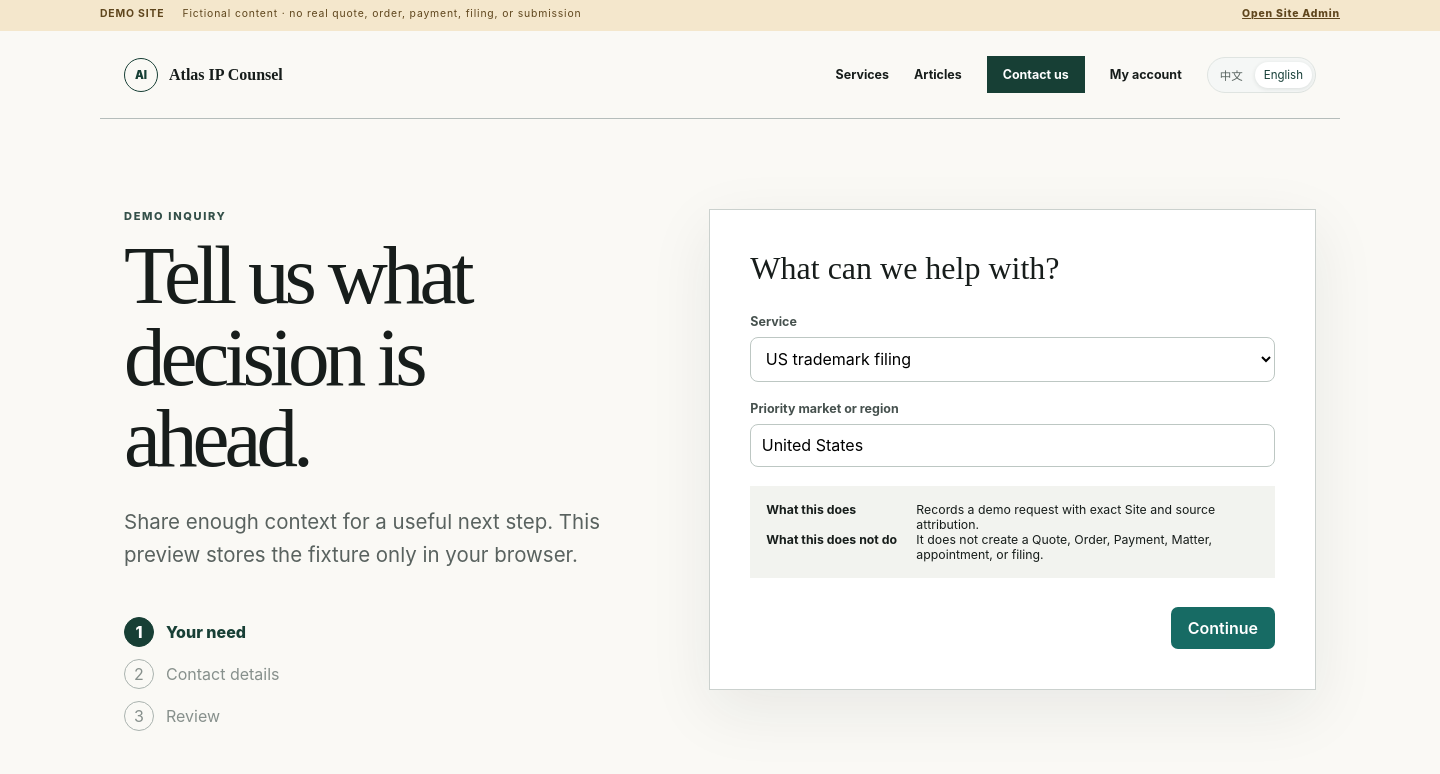
Test case: Site V1 interactive preview › rejects an inquiry without explicit consent and prevents duplicates
Click the button "Continue". click: (1223, 628)
box: [1171,607,1275,649]
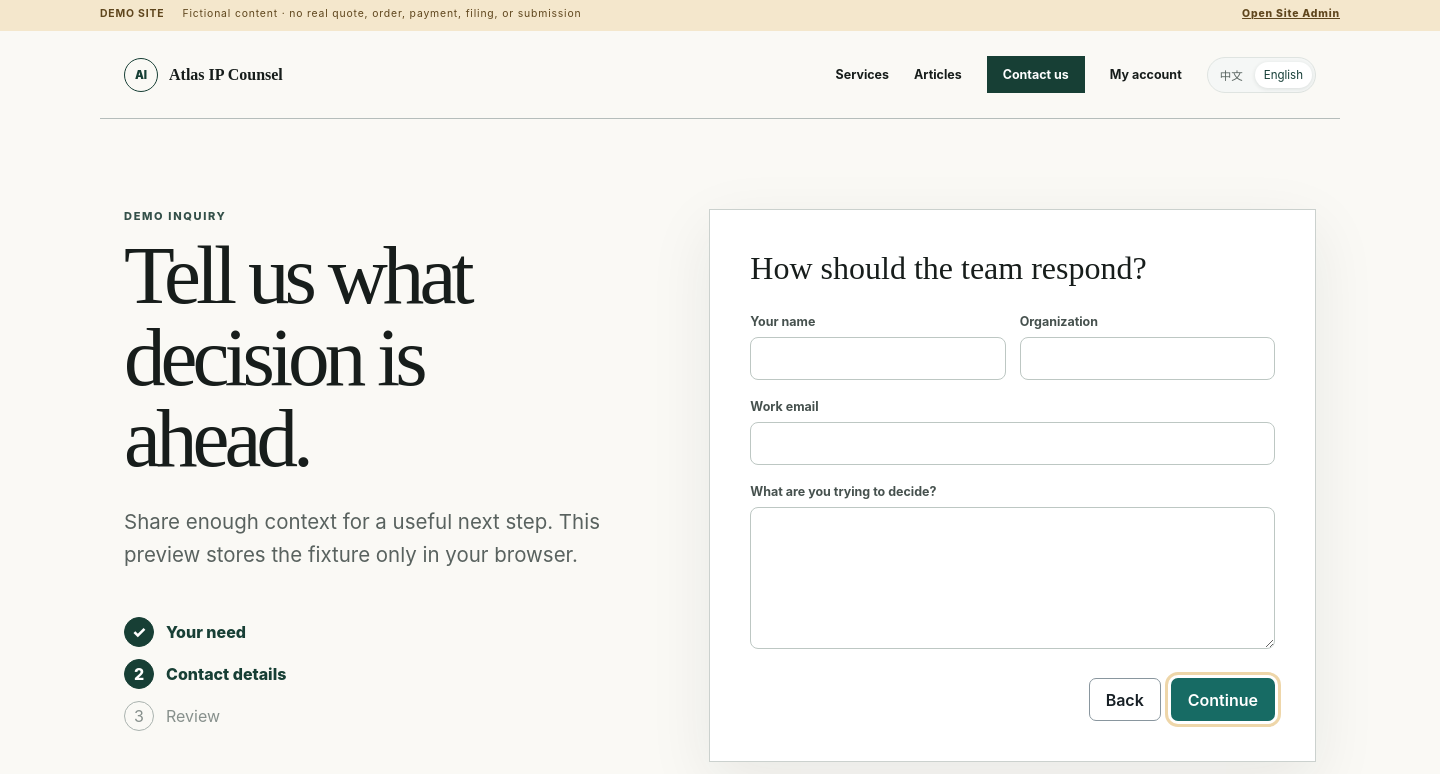
Type "Maya Chen" into the field labelled "Your name". click: (878, 358)
box: [750,337,1006,380]
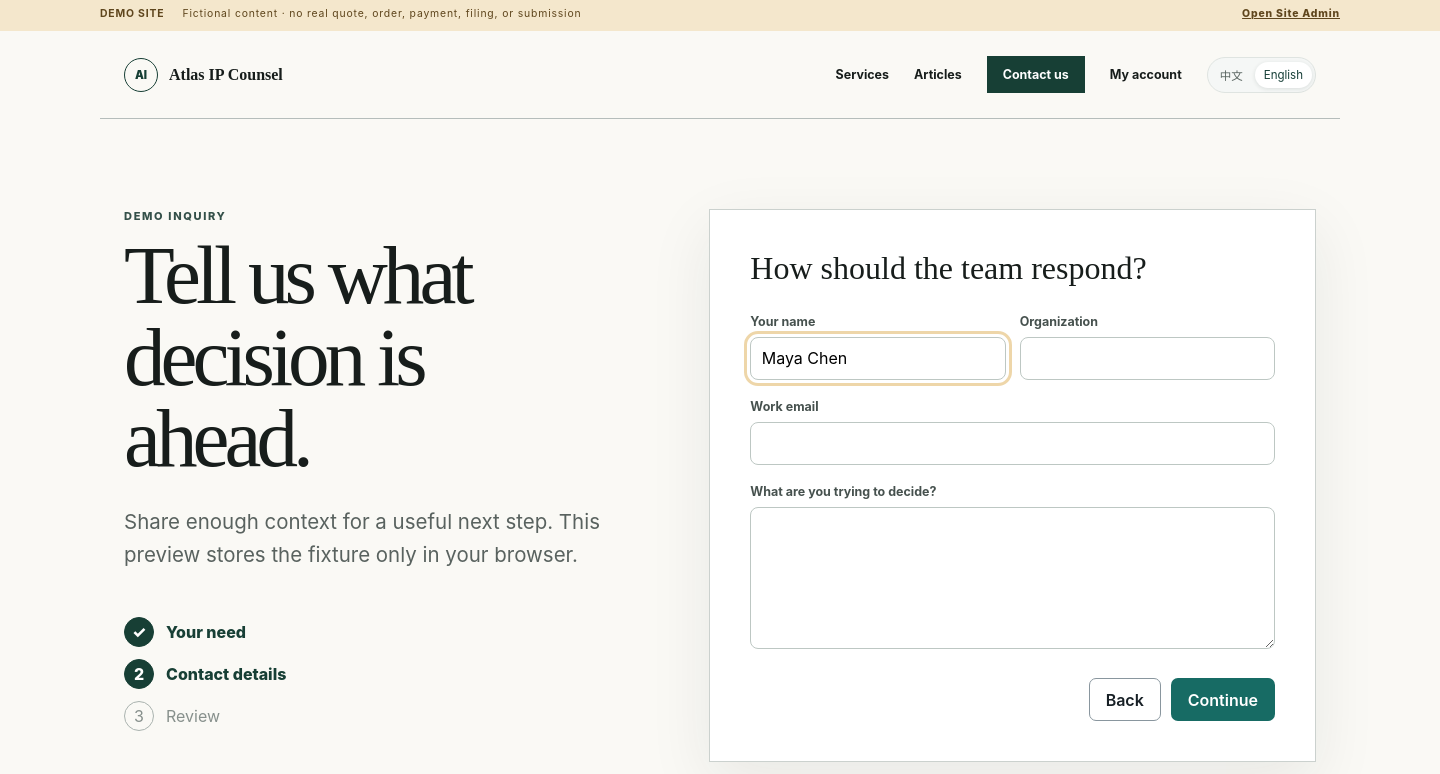
Type "maya@example.com" into the field labelled "Work email". click: (1013, 443)
box: [750,422,1275,465]
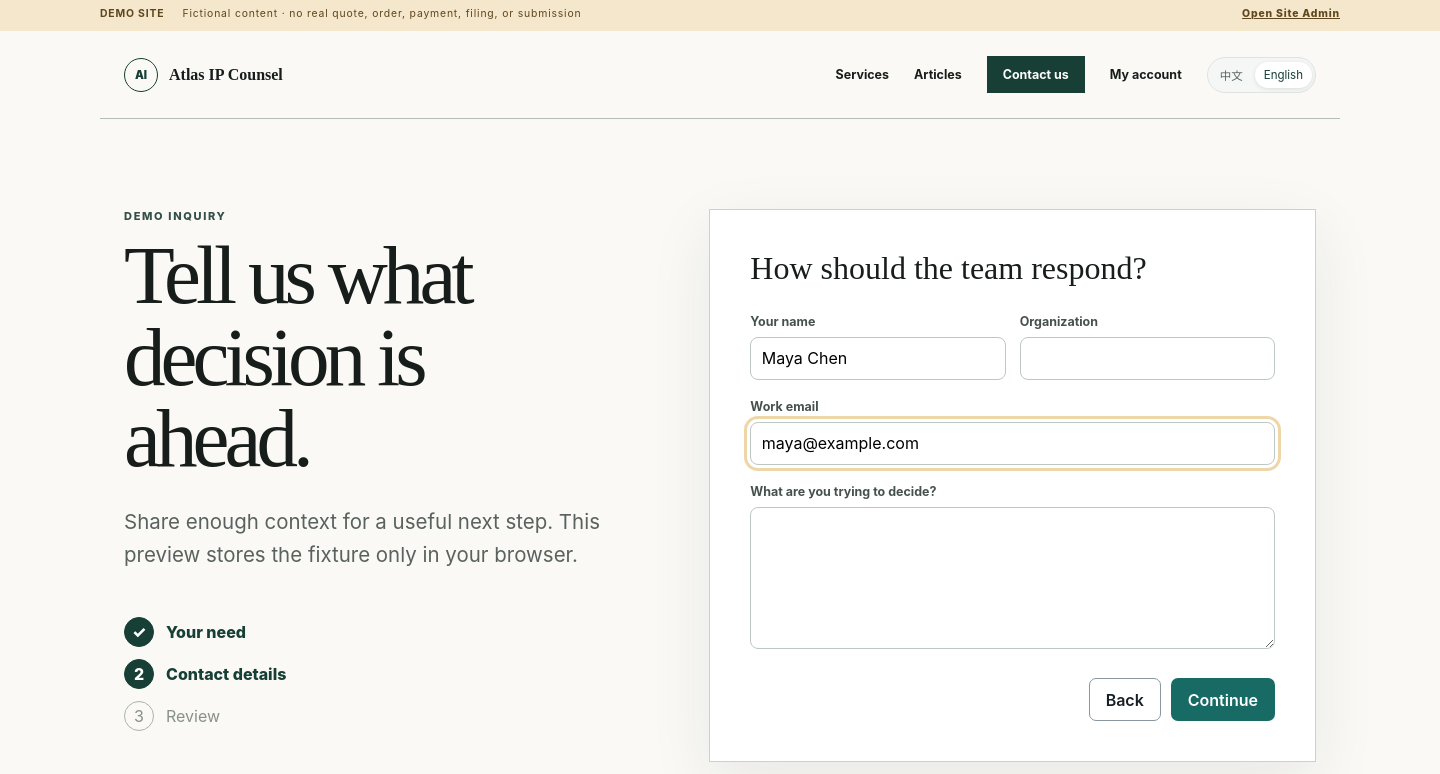
Type "We need a filing sequence for three markets." into the text box labelled "What are you trying to decide?". click: (1013, 578)
box: [750,507,1275,649]
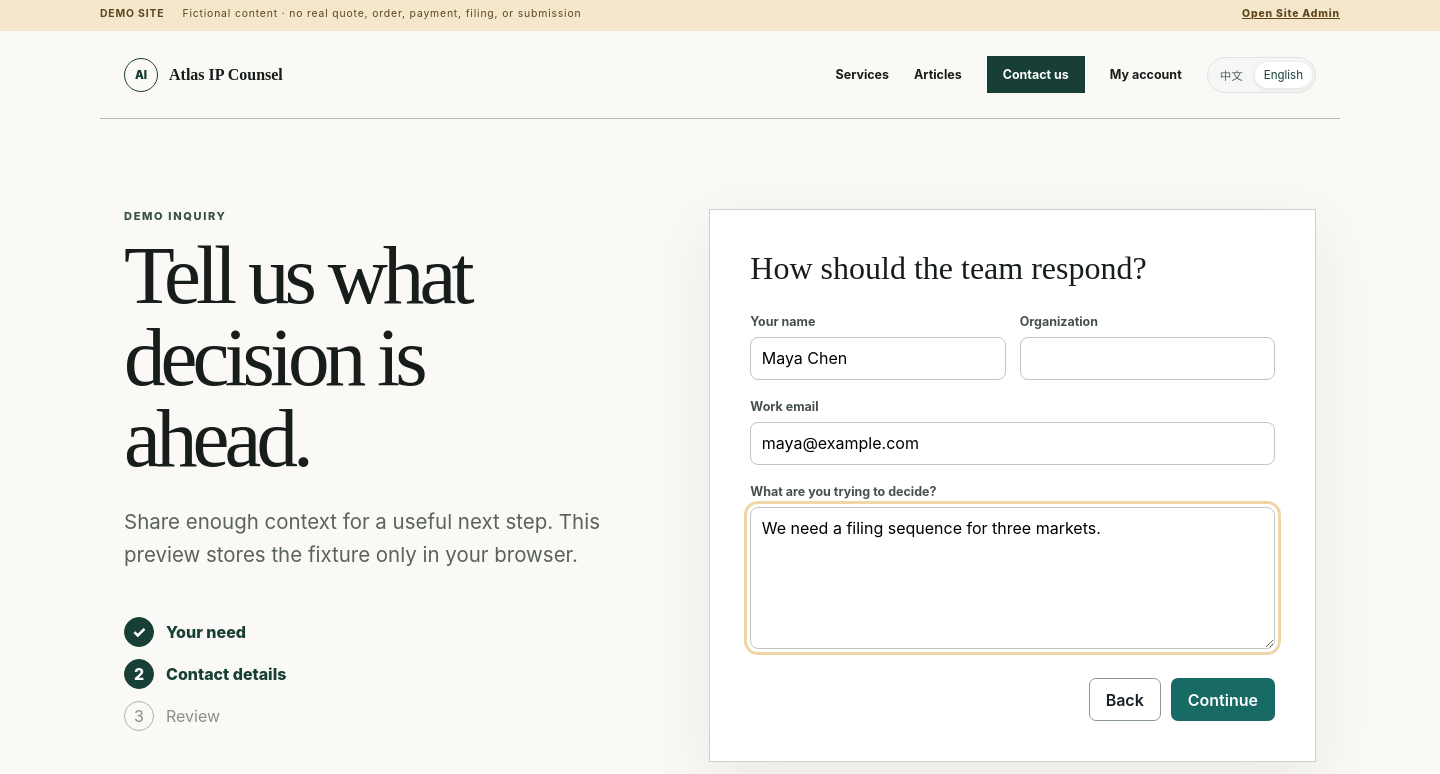
Click the button "Continue". click: (1223, 700)
box: [1171,678,1275,721]
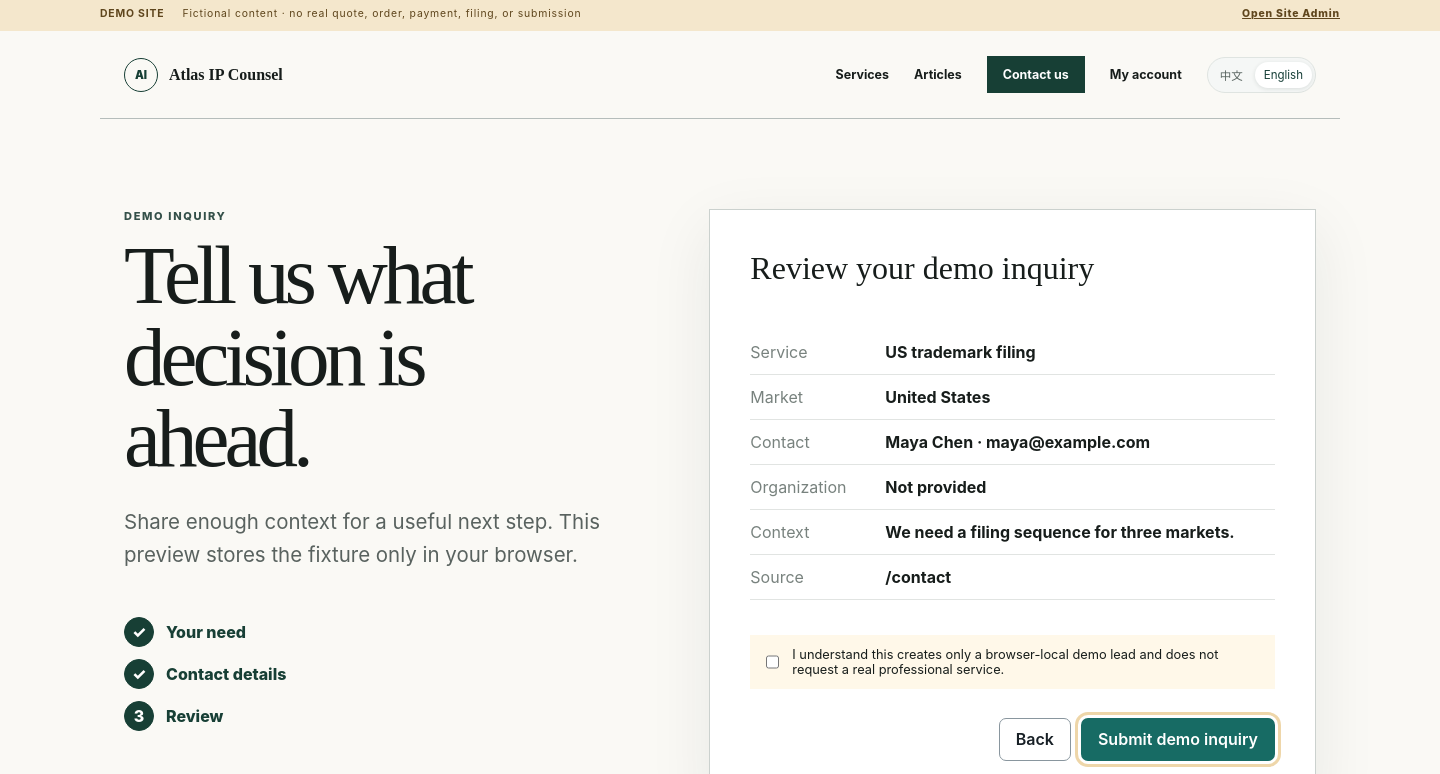
Click the button "Submit demo inquiry". click: (1178, 739)
box: [1081,718,1275,761]
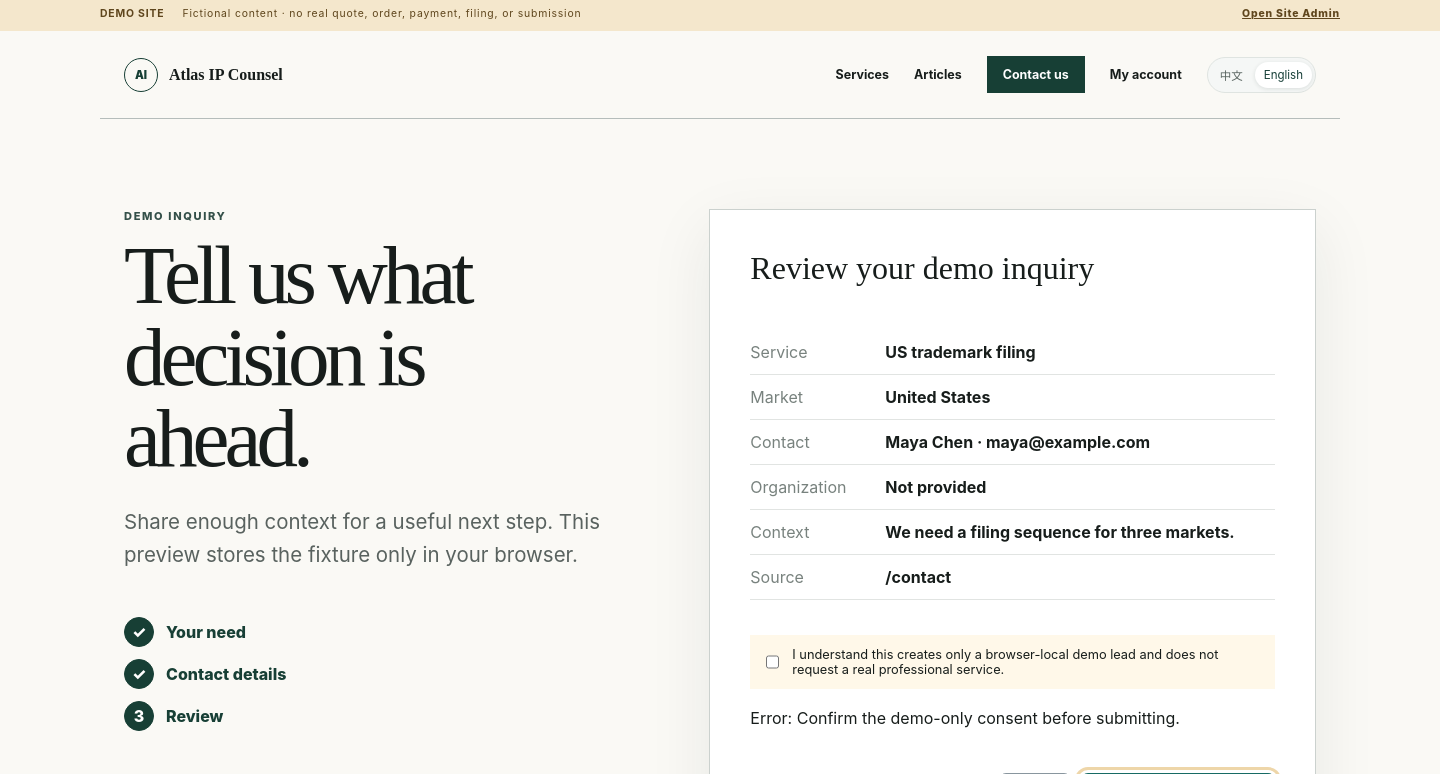
Check: the text "Error: Confirm the demo-only consent before submitting." is shown, box [750,708,1180,728]
